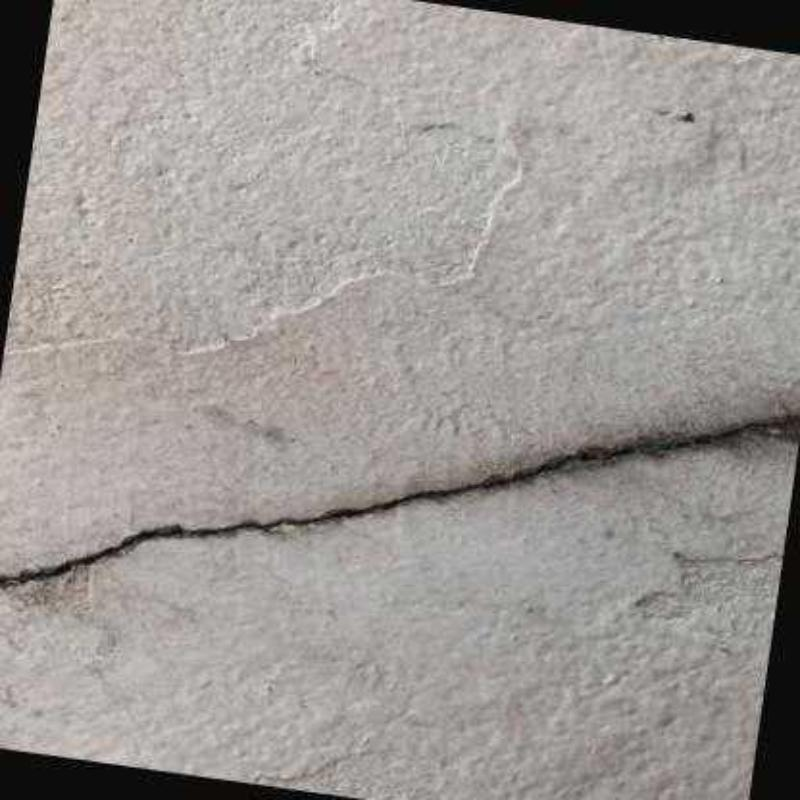crack: (0, 412, 800, 584)
